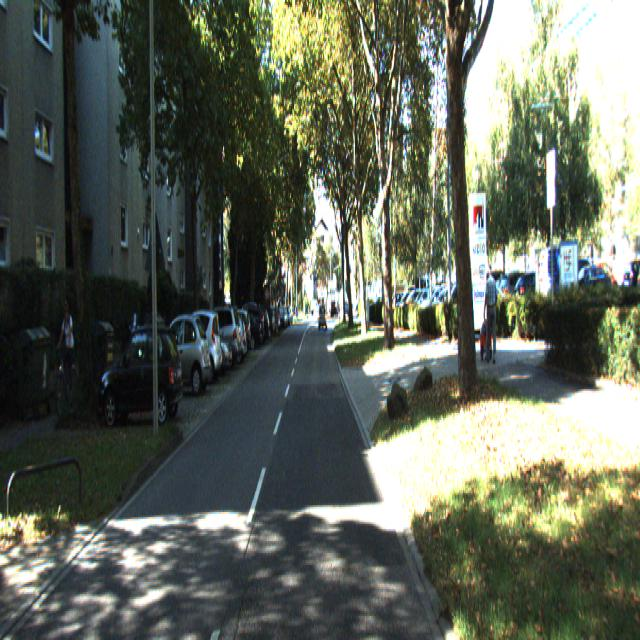Car: (98, 324, 184, 429), (149, 312, 212, 401), (167, 308, 224, 387), (189, 301, 242, 371), (220, 310, 252, 361), (228, 311, 262, 351), (245, 304, 274, 341)
